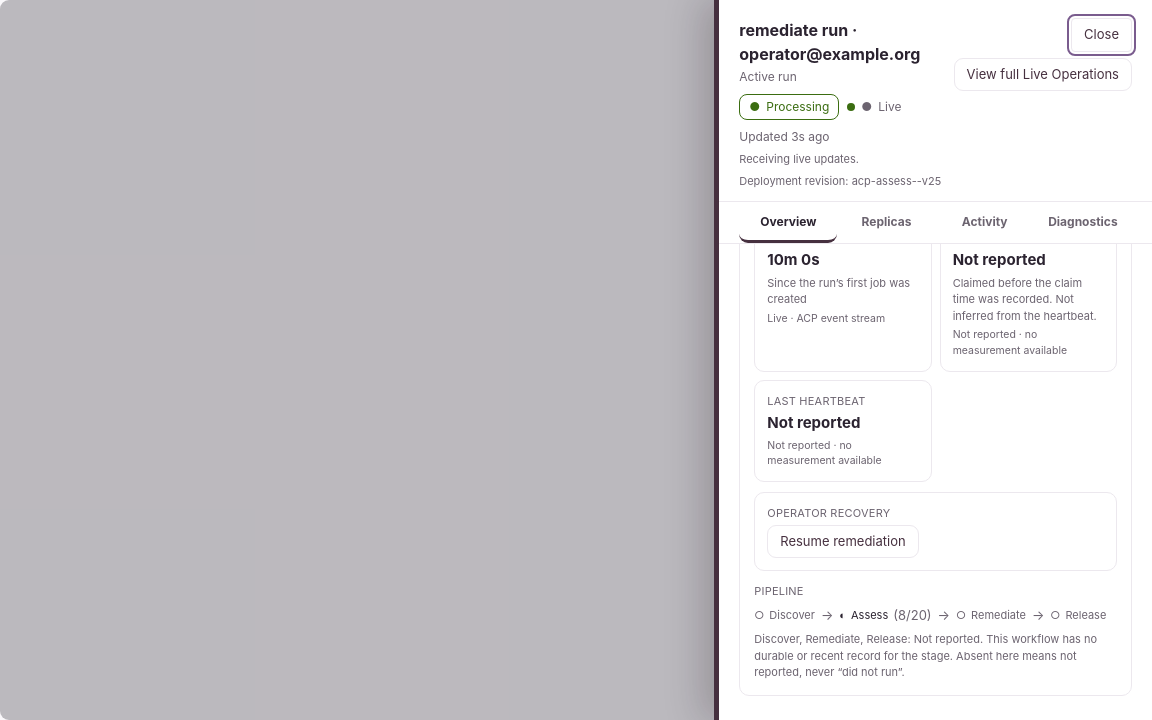
it: Primary visualization per node › offers durable resume only when a remediation run is actually paused
(page scrolled)
Click the button "Resume remediation" at x=843, y=541, box [767, 524, 919, 558]
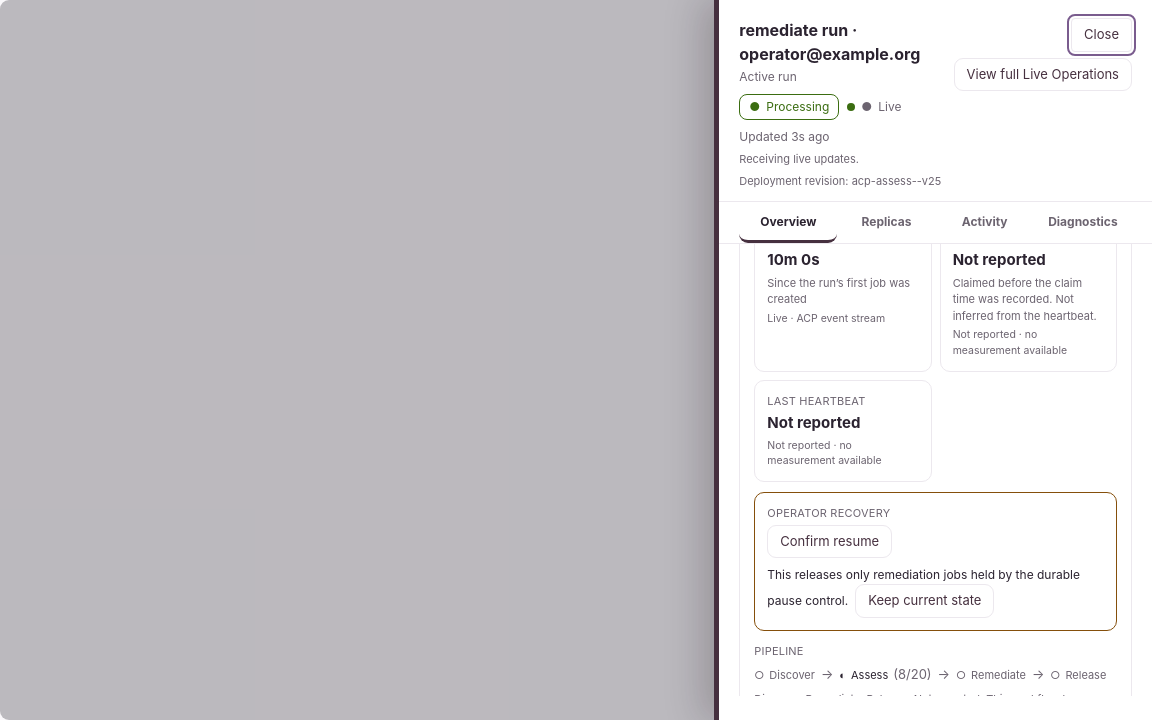
Expected: the text "releases only remediation jobs held by the durable pause control" is shown, [767, 567, 1080, 608]
Click the button "Confirm resume" at x=830, y=541, box [767, 524, 892, 558]
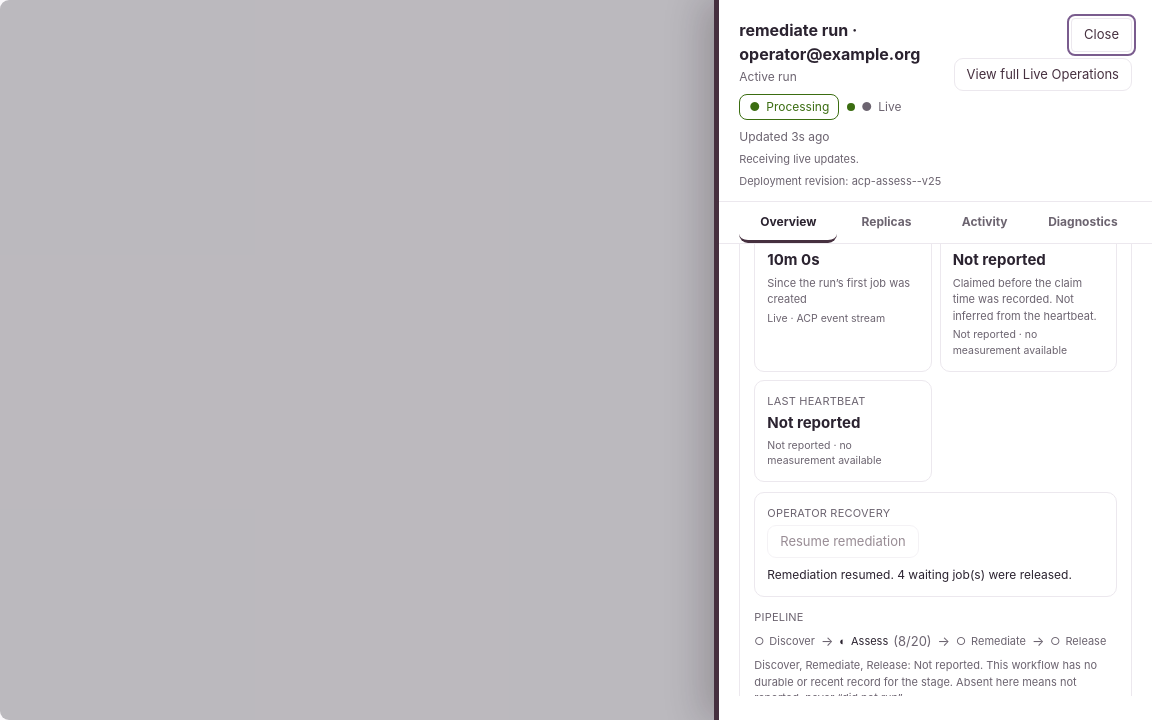
Expected: the text "4 waiting job(s) were released" is shown, [767, 567, 1072, 582]
